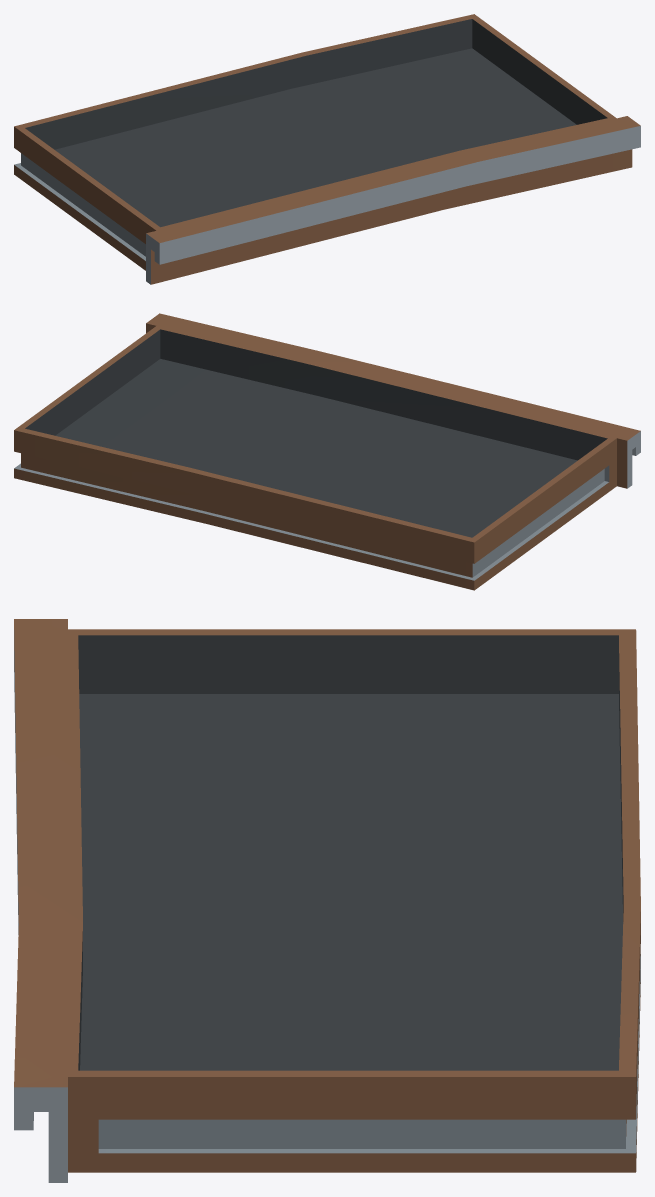
Rendered from SM_Prop_Tool_Box_01_Drawer_01.obj.
3 views of the same model, one above another, from view 1: azimuth 30°, elevation 25°; view 2: azimuth 150°, elevation 25°; view 3: azimuth 270°, elevation 25° (orthographic). The views are drawn at different scales.
Visible parts, largest first — view 1: SM_Prop_Tool_Box_01_Drawer_01_0; view 2: SM_Prop_Tool_Box_01_Drawer_01_0; view 3: SM_Prop_Tool_Box_01_Drawer_01_0.
Boxes of the visible parts, bbox=[...] form: SM_Prop_Tool_Box_01_Drawer_01_0: bbox=[14, 14, 640, 284]; SM_Prop_Tool_Box_01_Drawer_01_0: bbox=[14, 313, 640, 590]; SM_Prop_Tool_Box_01_Drawer_01_0: bbox=[14, 619, 640, 1182].
Size of the model in its own units: 0.8603 by 0.0861 by 0.4869.
Materials: 1 (1 with a texture image).
